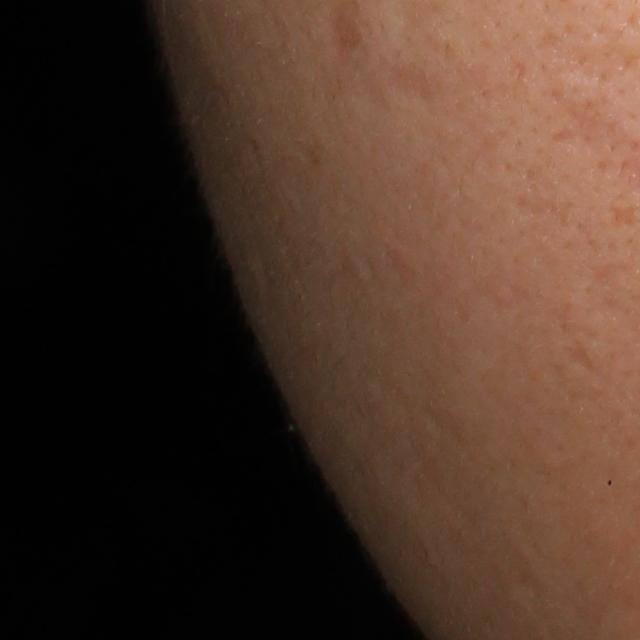atrophic_scar: (511, 172, 576, 227), (382, 59, 448, 111), (556, 44, 622, 83)
